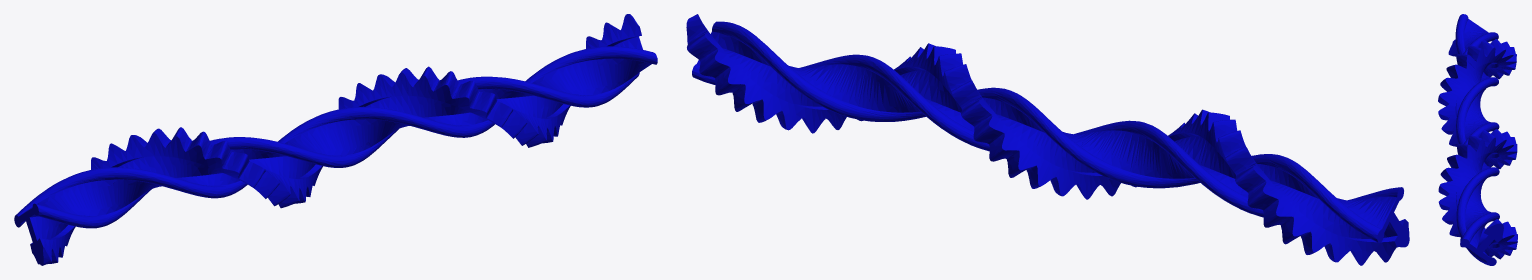
Rendered from upperRod.obj.
3 renders of one model, left to right at view 1: azimuth 30°, elevation 25°; view 2: azimuth 150°, elevation 25°; view 3: azimuth 270°, elevation 25°, orthographic. The views are drawn at different scales.
Visible parts, largest first — view 1: screw_screw_mechanism_gear; view 2: screw_screw_mechanism_gear; view 3: screw_screw_mechanism_gear.
Boxes of the visible parts, x1,y1,x2,y2 form: screw_screw_mechanism_gear: (14, 14, 657, 265); screw_screw_mechanism_gear: (686, 14, 1409, 265); screw_screw_mechanism_gear: (1438, 14, 1517, 265).
Bounding box in the file's own units: 157 × 23.52 × 23.64.
